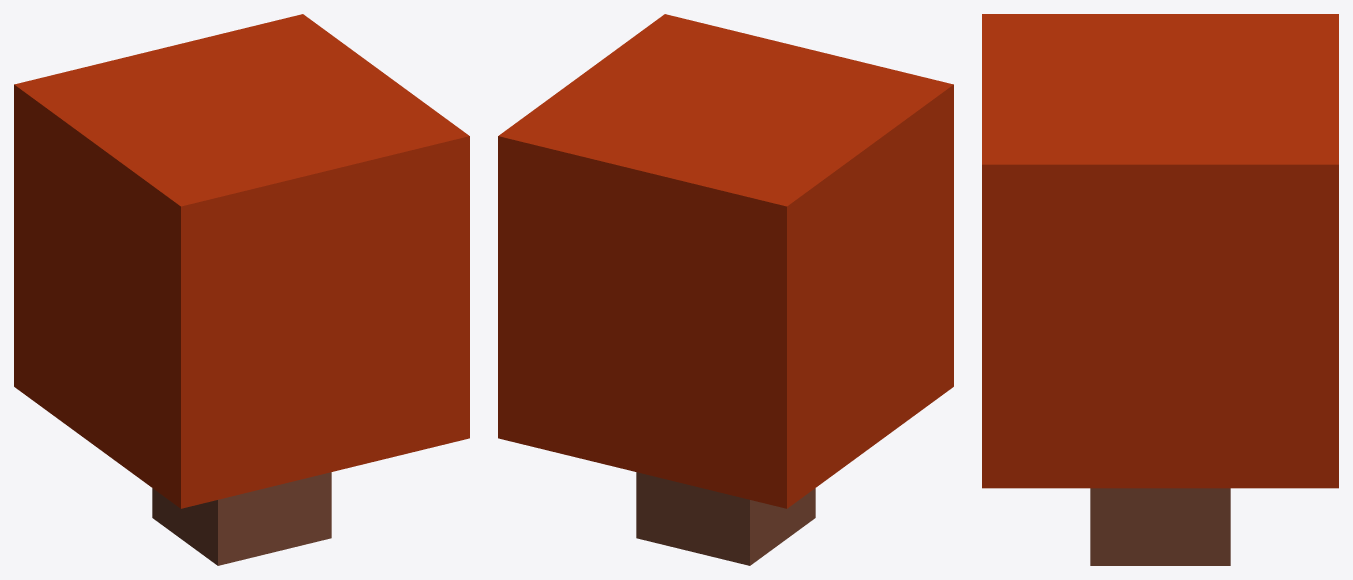
File: Bush_8_summer_red_vc.fbx
3 renders of one model, left to right at view 1: azimuth 30°, elevation 25°; view 2: azimuth 150°, elevation 25°; view 3: azimuth 270°, elevation 25°, orthographic. The views are drawn at different scales.
Parts seen in each view (by area): view 1: Bush_8_summer_red_vc; view 2: Bush_8_summer_red_vc; view 3: Bush_8_summer_red_vc.
Boxes of the visible parts, box(x1,y1,x2,y2) form: Bush_8_summer_red_vc: box(14, 14, 469, 565); Bush_8_summer_red_vc: box(498, 14, 953, 565); Bush_8_summer_red_vc: box(982, 14, 1338, 565).
Bounding box in the file's own units: 38.7 × 53.49 × 38.7.
